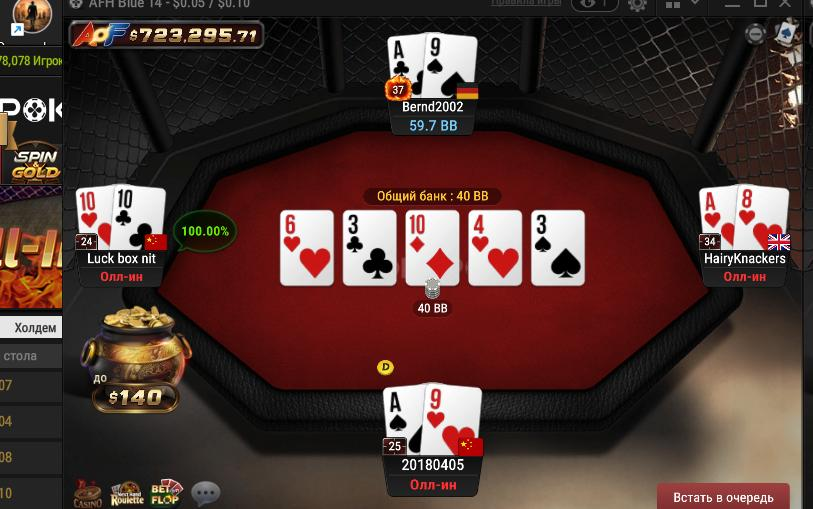10c: (113, 185, 165, 251)
10d: (405, 210, 458, 284)
10h: (76, 186, 113, 249)
3c: (344, 210, 397, 283)
3s: (532, 211, 585, 285)
4h: (469, 211, 521, 287)
6h: (280, 208, 334, 285)
8h: (735, 184, 789, 249)
9h: (425, 383, 481, 459)
9s: (424, 31, 477, 101)
Ac: (387, 33, 425, 98)
Ah: (698, 185, 736, 252)
As: (383, 383, 425, 456)
